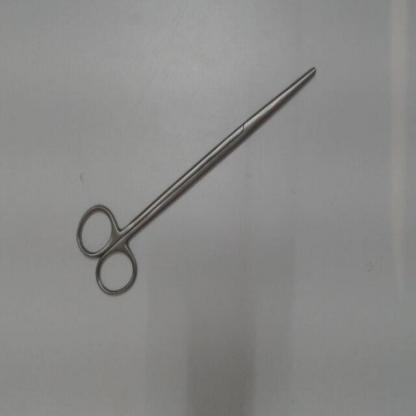9 Metzenbaum Scissors: (67, 62, 322, 305)
